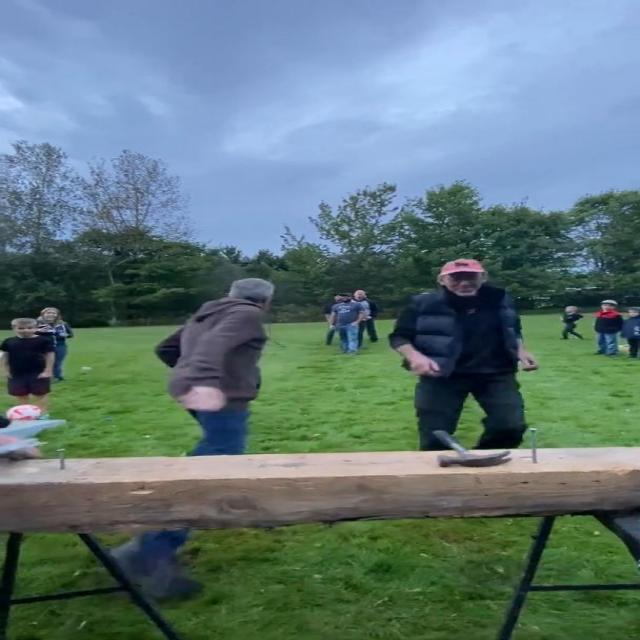hammer: (432, 430, 512, 468)
